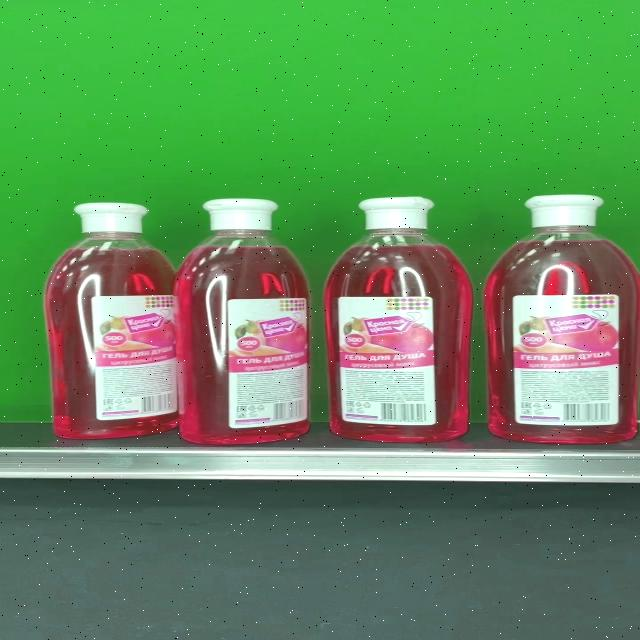Bottle: (483, 195, 640, 443), (324, 197, 472, 442), (179, 198, 309, 444), (45, 203, 179, 439)
Cap: (524, 196, 603, 228), (203, 199, 278, 232), (360, 198, 434, 230), (75, 203, 146, 234)
